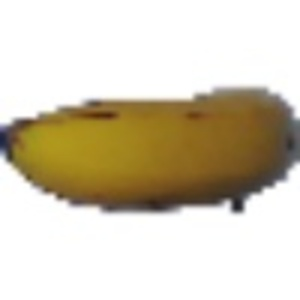banana: (4, 73, 296, 217)
